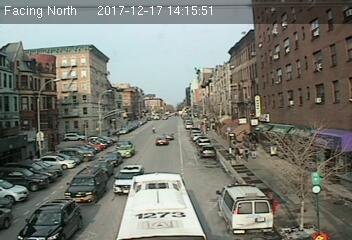car: (16, 199, 85, 240), (63, 166, 108, 205), (201, 146, 216, 158), (155, 135, 169, 147)
police: (213, 182, 277, 236), (112, 164, 145, 197)
